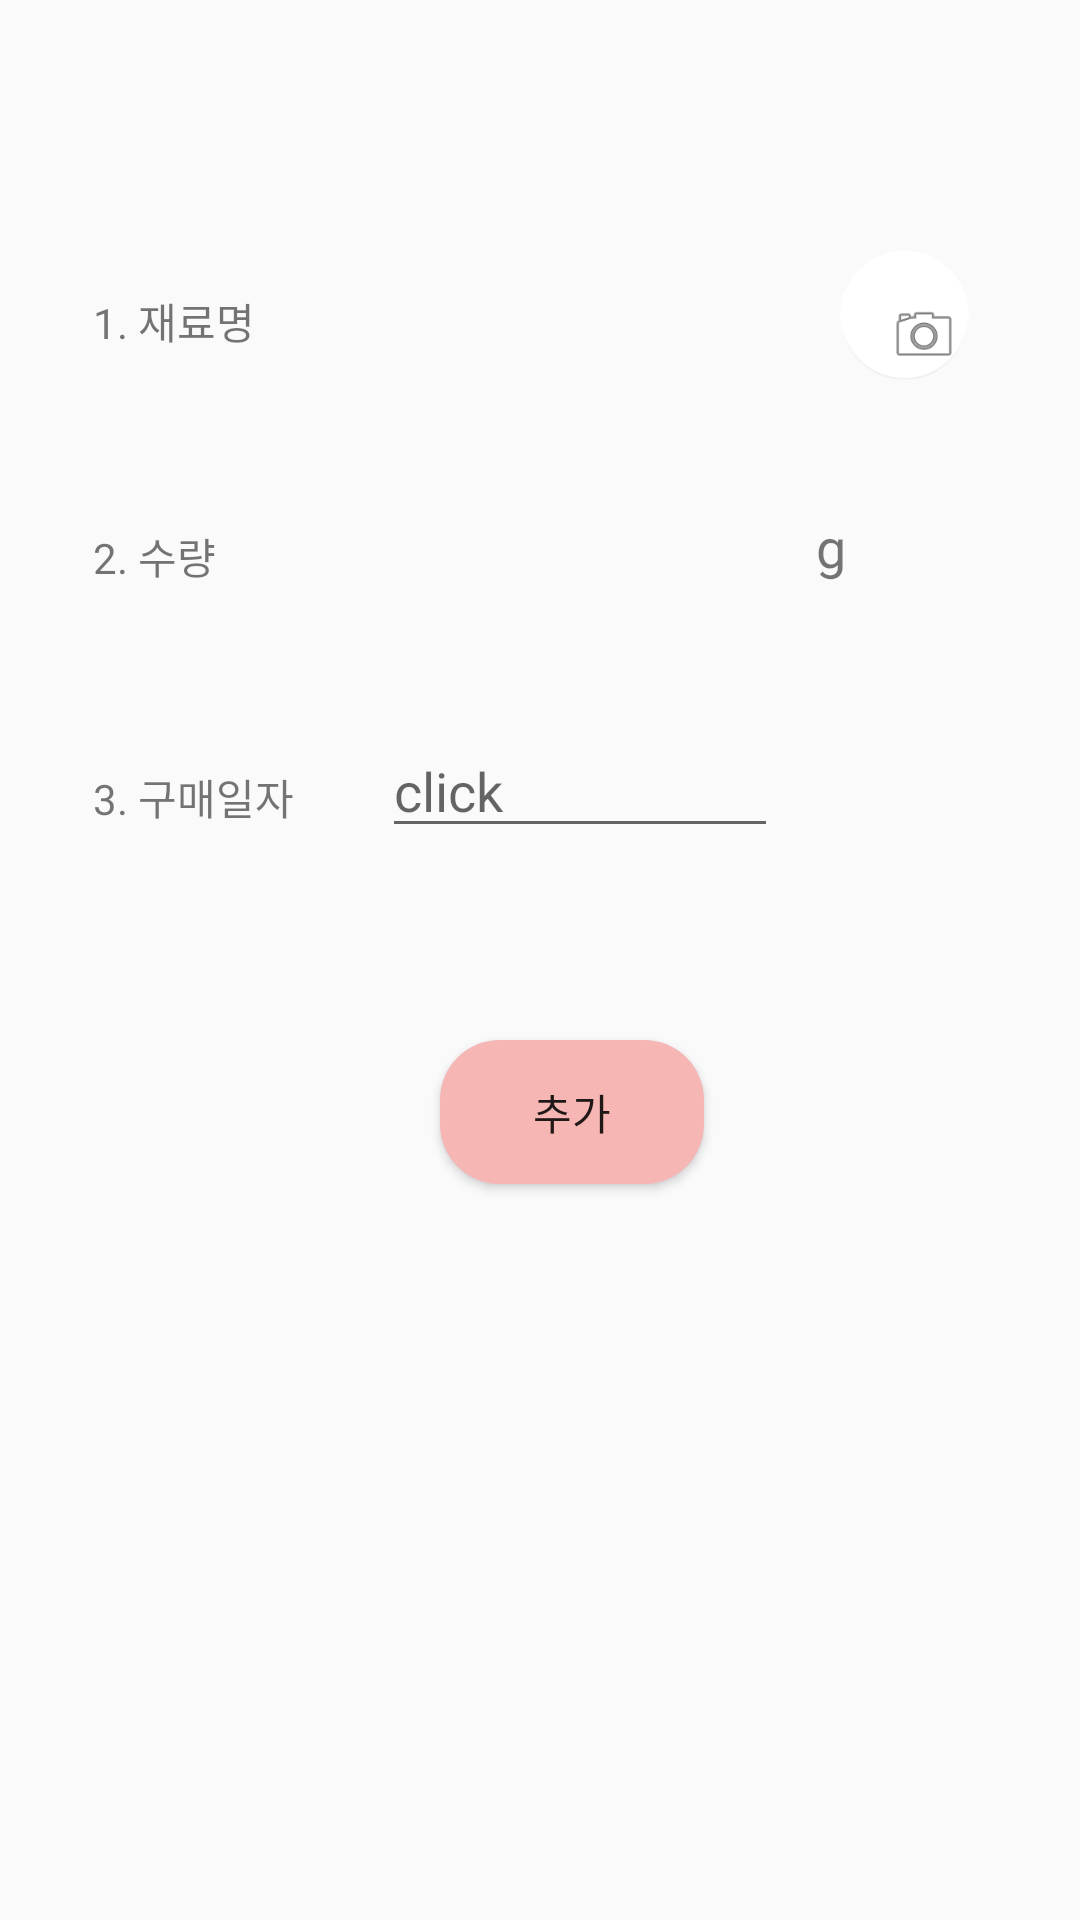

Icons on this 1080*1920 Android screen, each with its box as BBox(x1, y1, x2, y2):
camera: BBox(896, 312, 952, 356)
